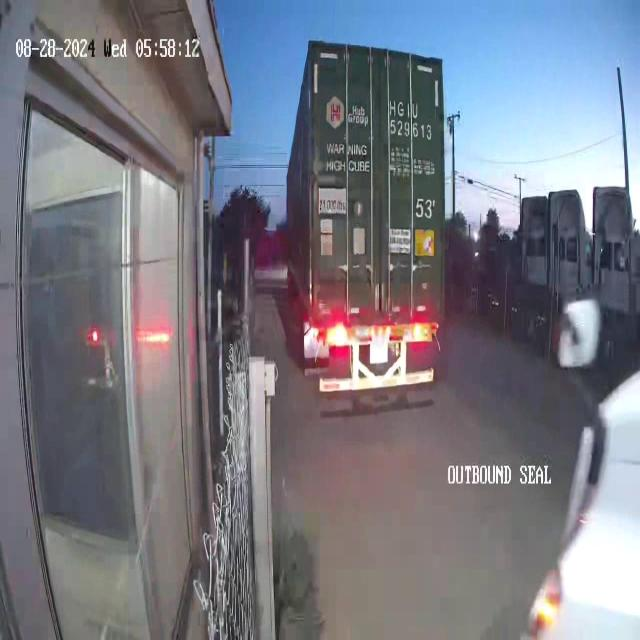TRUCK_CONTAINER: (283, 38, 447, 394)
